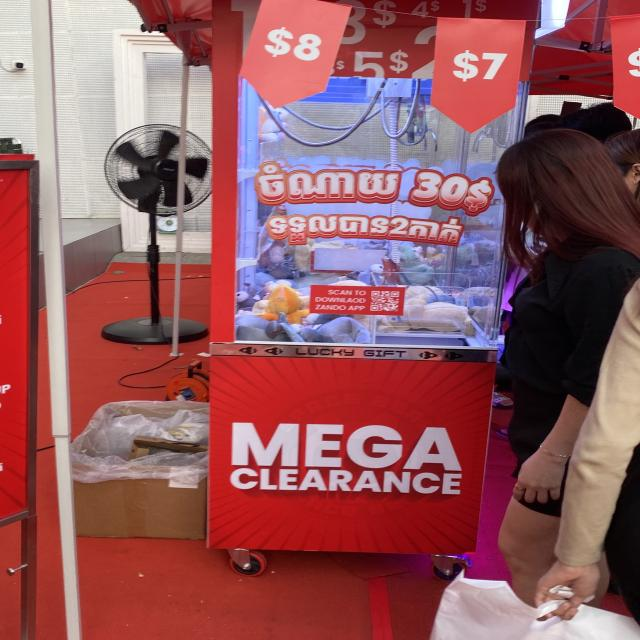169: (447, 43, 513, 85)
174: (255, 22, 327, 64)
631: (388, 213, 410, 242)
711: (405, 162, 499, 220)
Yolov11_80vkh: (249, 162, 408, 211), (262, 211, 392, 246), (407, 215, 463, 247)
